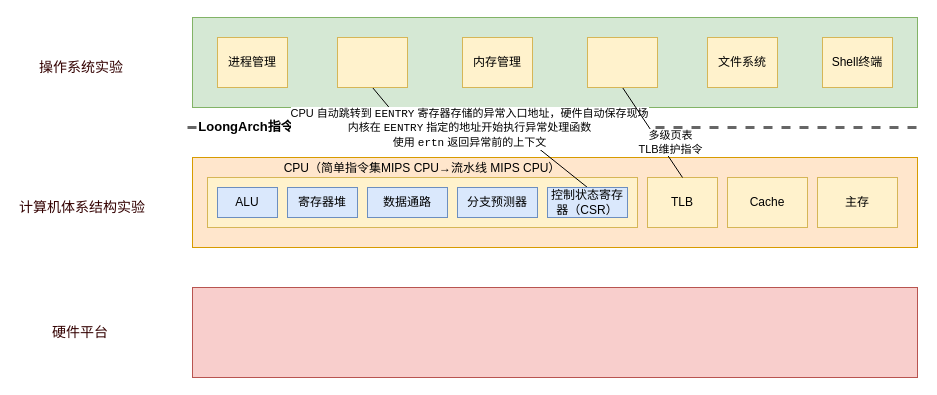
Image size: 937x395. Some labels were removed from this diagram. The centre of each missing label's shape, as x and y in pixels:
"LoongArch 实验箱" goes at point (555, 332).
"异常处理" goes at point (372, 62).
"虚拟内存" goes at point (622, 62).
